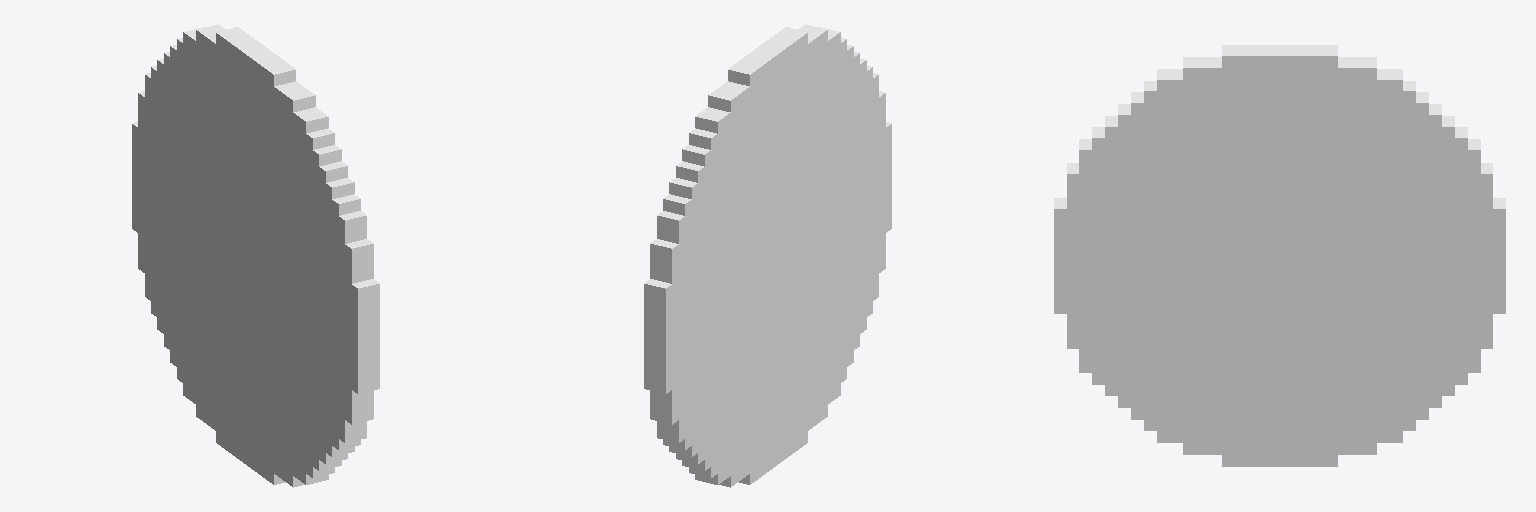
Rendered from coin1.obj.
3 renders of one model, left to right at view 1: azimuth 30°, elevation 25°; view 2: azimuth 150°, elevation 25°; view 3: azimuth 270°, elevation 25°, orthographic.
Parts seen in each view (by area): view 1: object 1; view 2: object 1; view 3: object 1.
Boxes of the visible parts, x1,y1,x2,y2 form: object 1: [132, 24, 379, 487]; object 1: [644, 24, 891, 487]; object 1: [1054, 45, 1505, 466].
Size of the model in its own units: 0.2 by 3.5 by 3.5.